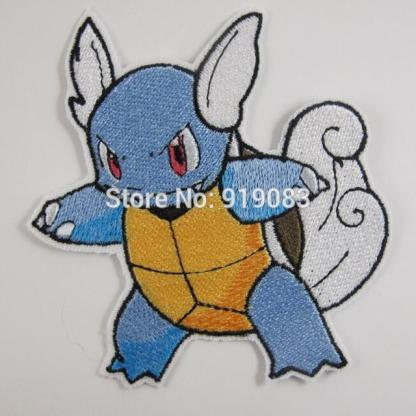Wartortle: (31, 10, 391, 385)
